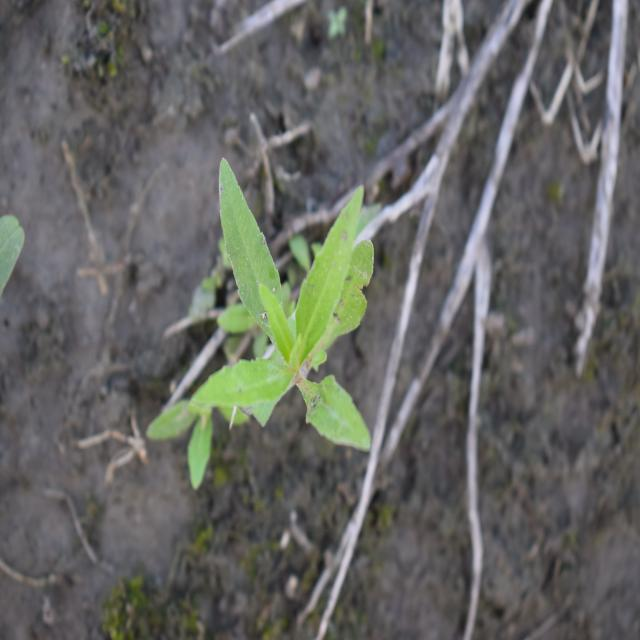Eclipta: (142, 155, 376, 495)
